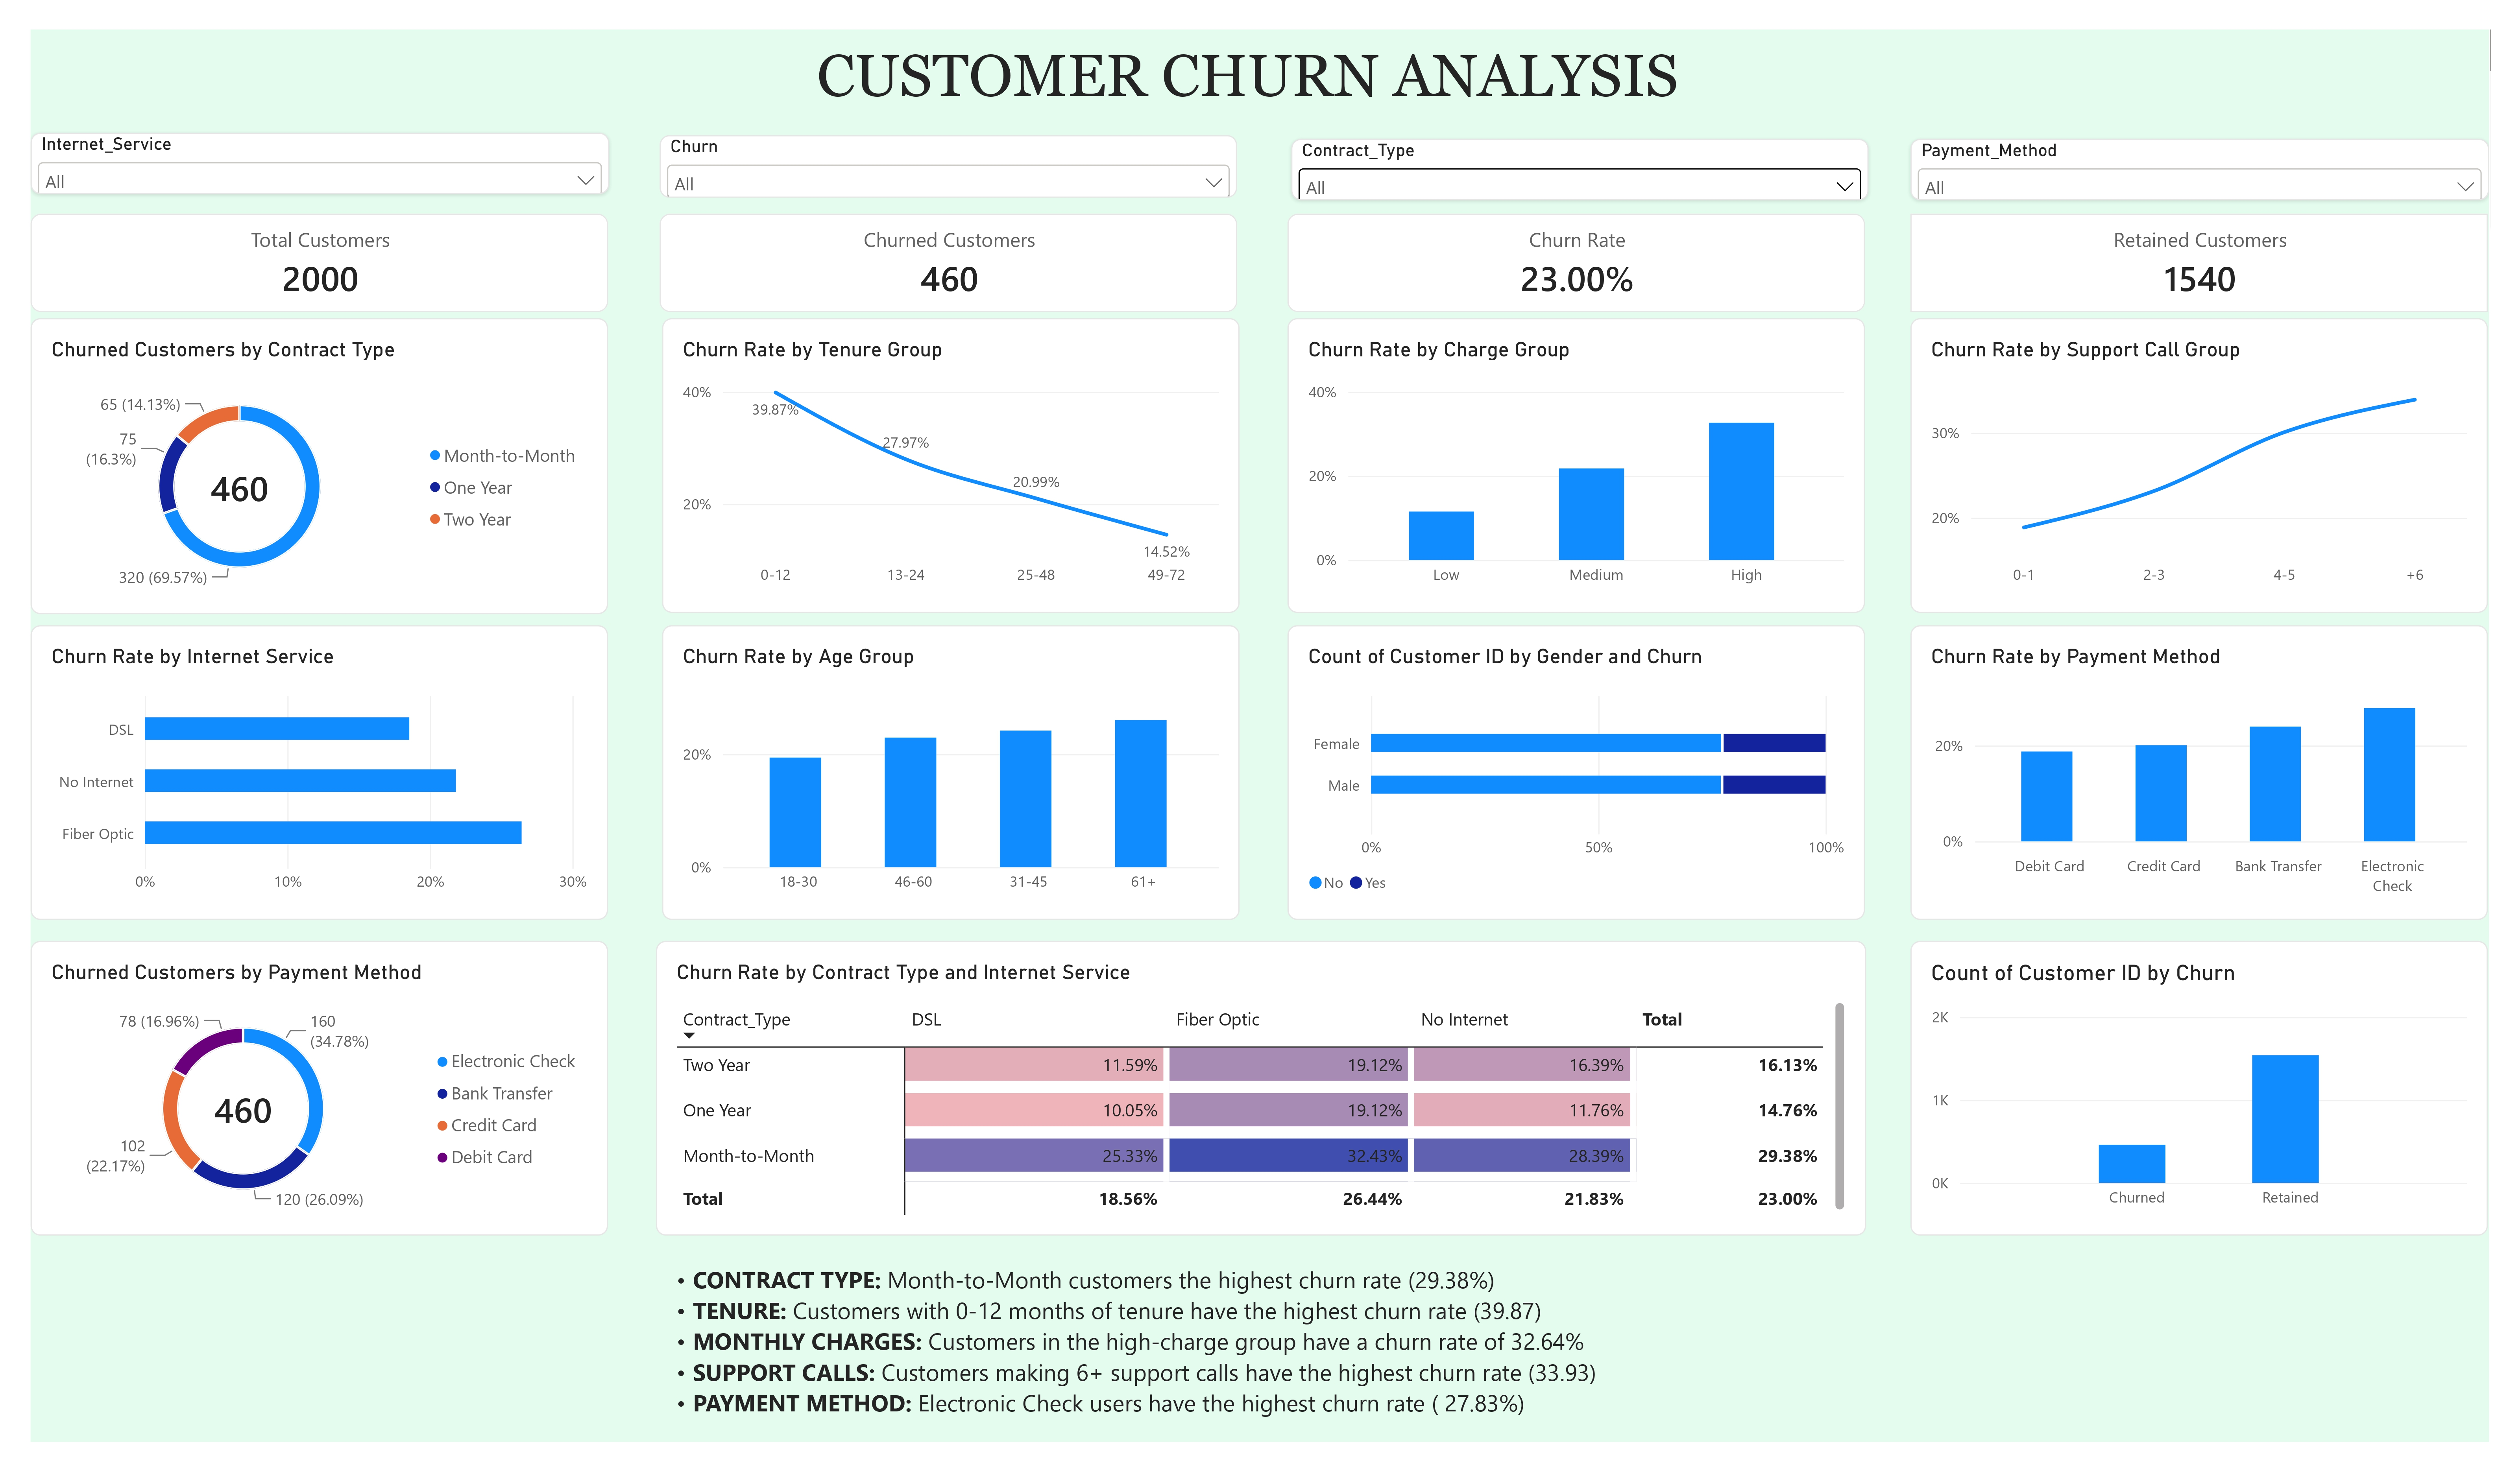

The dashboard page shown, as its layout file describes it:
{"tool":"powerbi","page":{"name":"Page 1","canvas":[2001,1150],"ordinal":0},"visuals":[{"type":"donutChart","title":"Churned Customers by Contract Type","fields":{"Category":["customer_churn_analysis_dataset.Contract_Type"],"Y":["customer_churn_analysis_dataset.Churned Customers"]},"box":[0,235.4,470,240.2],"z":0},{"type":"lineChart","fields":{"Category":["customer_churn_analysis_dataset.Tenure Group"],"Y":["customer_churn_analysis_dataset.Churn Rate"]},"box":[514,235.4,470,240],"z":1000},{"type":"clusteredColumnChart","fields":{"Category":["customer_churn_analysis_dataset.Charge Group"],"Y":["customer_churn_analysis_dataset.Churn Rate"]},"box":[1023.1,235.4,470,240],"z":2000},{"type":"lineChart","fields":{"Category":["customer_churn_analysis_dataset.Support Call Group"],"Y":["customer_churn_analysis_dataset.Churn Rate"]},"box":[1529.9,235.4,470,240],"z":3000},{"type":"donutChart","title":"Churned Customers by Payment Method","fields":{"Category":["customer_churn_analysis_dataset.Payment_Method"],"Y":["customer_churn_analysis_dataset.Churned Customers"]},"box":[0,742.1,470,240],"z":4000},{"type":"barChart","title":"Churn Rate by Internet Service","fields":{"Category":["customer_churn_analysis_dataset.Internet_Service"],"Y":["customer_churn_analysis_dataset.Churn Rate"]},"box":[0,485,470,240.2],"z":5000},{"type":"clusteredColumnChart","fields":{"Category":["customer_churn_analysis_dataset.Age Group"],"Y":["customer_churn_analysis_dataset.Churn Rate"]},"box":[514,485,470,240],"z":6000},{"type":"pivotTable","title":"Churn Rate by Contract Type and Internet Service","fields":{"Columns":["customer_churn_analysis_dataset.Internet_Service"],"Rows":["customer_churn_analysis_dataset.Contract_Type"],"Values":["customer_churn_analysis_dataset.Churn Rate"]},"box":[509.2,742.1,985,240],"z":7000},{"type":"hundredPercentStackedBarChart","title":"Count of Customer ID by Gender and Churn","fields":{"Category":["customer_churn_analysis_dataset.Gender"],"Series":["customer_churn_analysis_dataset.Churn"],"Y":["CountNonNull(customer_churn_analysis_dataset.Customer_ID)"]},"box":[1023.1,485,470,240],"z":8000},{"type":"clusteredColumnChart","title":"Churn Rate by Payment Method","fields":{"Category":["customer_churn_analysis_dataset.Payment_Method"],"Y":["customer_churn_analysis_dataset.Churn Rate"]},"box":[1529.9,485,470,240],"z":9000},{"type":"clusteredColumnChart","title":"Count of Customer ID by Churn","fields":{"Category":["customer_churn_analysis_dataset.Churn Status"],"Y":["CountNonNull(customer_churn_analysis_dataset.Customer_ID)"]},"box":[1529.9,742.1,470,240],"z":10000},{"type":"slicer","fields":{"Values":["customer_churn_analysis_dataset.Internet_Service"]},"box":[0,84.1,470.7,50.4],"z":11000},{"type":"slicer","fields":{"Values":["customer_churn_analysis_dataset.Payment_Method"]},"box":[1529.9,88.9,470.7,50.4],"z":12000},{"type":"slicer","fields":{"Values":["customer_churn_analysis_dataset.Contract_Type"]},"box":[1025.5,88.9,470,50.4],"z":13000},{"type":"slicer","fields":{"Values":["customer_churn_analysis_dataset.Churn"]},"box":[511.6,86.5,470,50.4],"z":14000},{"type":"cardVisual","fields":{"Data":["customer_churn_analysis_dataset.Total Customers"]},"box":[0,150,470,80],"z":15000},{"type":"cardVisual","fields":{"Data":["customer_churn_analysis_dataset.Churned Customers"]},"box":[511.6,150,470,80],"z":16000},{"type":"cardVisual","fields":{"Data":["customer_churn_analysis_dataset.Churn Rate"]},"box":[1023.1,150,470,80],"z":17000},{"type":"cardVisual","fields":{"Data":["customer_churn_analysis_dataset.Retained Customers"]},"box":[1529.9,150,470,80],"z":18000},{"type":"textbox","box":[601.6,10,777.1,77.7],"z":20000},{"type":"textbox","box":[511.4,1005.2,982.7,145.4],"z":20001}]}

Visuals, with their boxes on the page's 2001x1150 design canvas (x1, y1, x2, y2). These are canvas units, not pixel positions in the 2520x1472 screenshot, which may show the page scaled, cropped or inside an application window:
"Churned Customers by Contract Type" donutChart: l=0, t=235, r=470, b=476
lineChart - customer_churn_analysis_dataset.Tenure Group x customer_churn_analysis_dataset.Churn Rate: l=514, t=235, r=984, b=475
clusteredColumnChart - customer_churn_analysis_dataset.Charge Group x customer_churn_analysis_dataset.Churn Rate: l=1023, t=235, r=1493, b=475
lineChart - customer_churn_analysis_dataset.Support Call Group x customer_churn_analysis_dataset.Churn Rate: l=1530, t=235, r=2000, b=475
"Churned Customers by Payment Method" donutChart: l=0, t=742, r=470, b=982
"Churn Rate by Internet Service" barChart: l=0, t=485, r=470, b=725
clusteredColumnChart - customer_churn_analysis_dataset.Age Group x customer_churn_analysis_dataset.Churn Rate: l=514, t=485, r=984, b=725
"Churn Rate by Contract Type and Internet Service" pivotTable: l=509, t=742, r=1494, b=982
"Count of Customer ID by Gender and Churn" hundredPercentStackedBarChart: l=1023, t=485, r=1493, b=725
"Churn Rate by Payment Method" clusteredColumnChart: l=1530, t=485, r=2000, b=725
"Count of Customer ID by Churn" clusteredColumnChart: l=1530, t=742, r=2000, b=982
slicer - customer_churn_analysis_dataset.Internet_Service: l=0, t=84, r=471, b=134
slicer - customer_churn_analysis_dataset.Payment_Method: l=1530, t=89, r=2001, b=139
slicer - customer_churn_analysis_dataset.Contract_Type: l=1026, t=89, r=1496, b=139
slicer - customer_churn_analysis_dataset.Churn: l=512, t=86, r=982, b=137
cardVisual - customer_churn_analysis_dataset.Total Customers: l=0, t=150, r=470, b=230
cardVisual - customer_churn_analysis_dataset.Churned Customers: l=512, t=150, r=982, b=230
cardVisual - customer_churn_analysis_dataset.Churn Rate: l=1023, t=150, r=1493, b=230
cardVisual - customer_churn_analysis_dataset.Retained Customers: l=1530, t=150, r=2000, b=230
textbox: l=602, t=10, r=1379, b=88
textbox: l=511, t=1005, r=1494, b=1151
